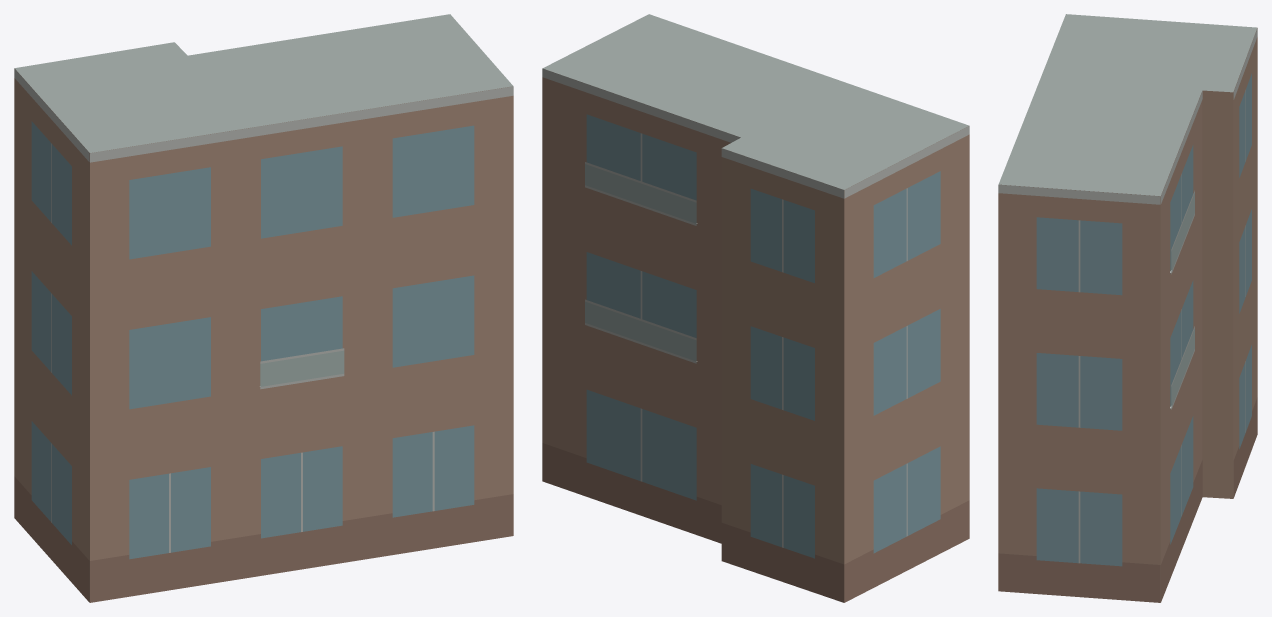
Rendered from survey-upis-32503697.glb.
3 views of the same model, side by side, from view 1: azimuth 30°, elevation 25°; view 2: azimuth 150°, elevation 25°; view 3: azimuth 270°, elevation 25° (orthographic). The views are drawn at different scales.
Visible parts, largest first — view 1: survey-upis-32503697.tmp; view 2: survey-upis-32503697.tmp; view 3: survey-upis-32503697.tmp.
Boxes of the visible parts, x1,y1,x2,y2 form: survey-upis-32503697.tmp: (14, 14, 513, 602); survey-upis-32503697.tmp: (542, 14, 969, 602); survey-upis-32503697.tmp: (998, 14, 1257, 602).
Bounding box in the file's own units: 11.06 × 11.5 × 6.65.
